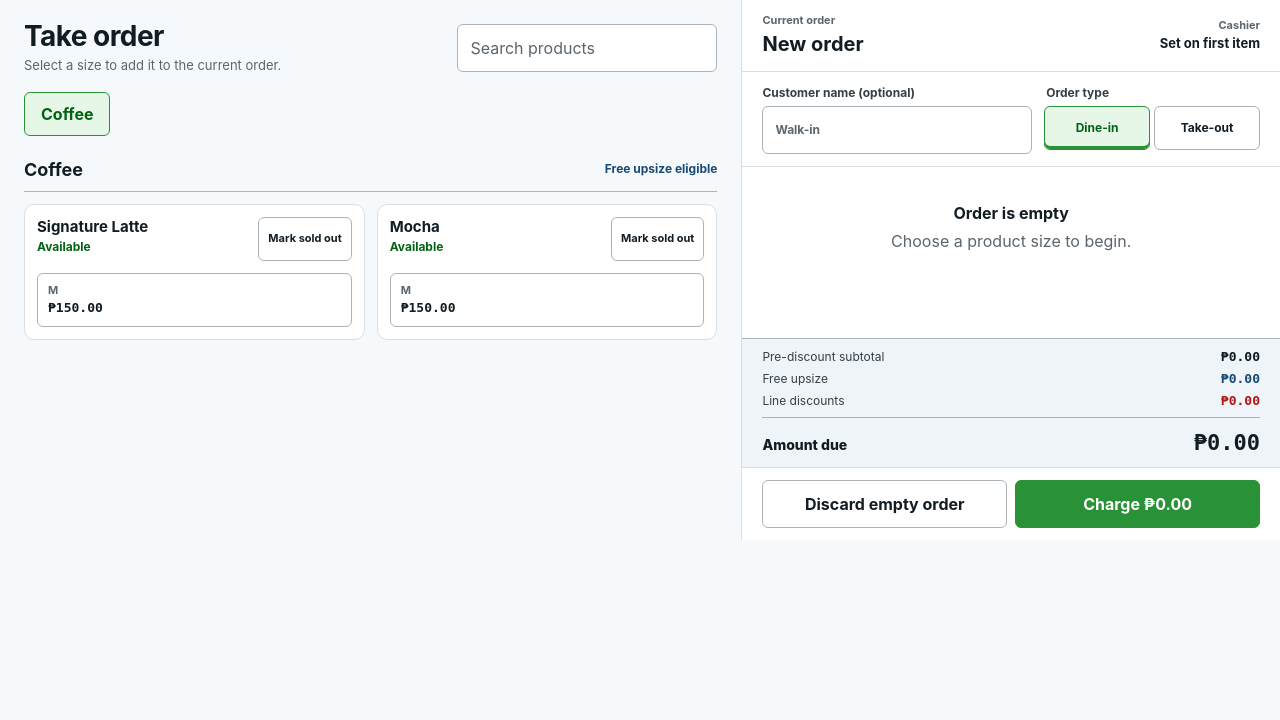
Test: Take Order workspace › keeps free upsize unavailable when the order has no eligible line
The image size is (1280, 720).
Expected: the heading "Signature Latte" is shown, [37,217,148,236]
Click the button "M ₱150.00" below "Signature Latte".
click(75, 308)  # box [37,273,352,327]
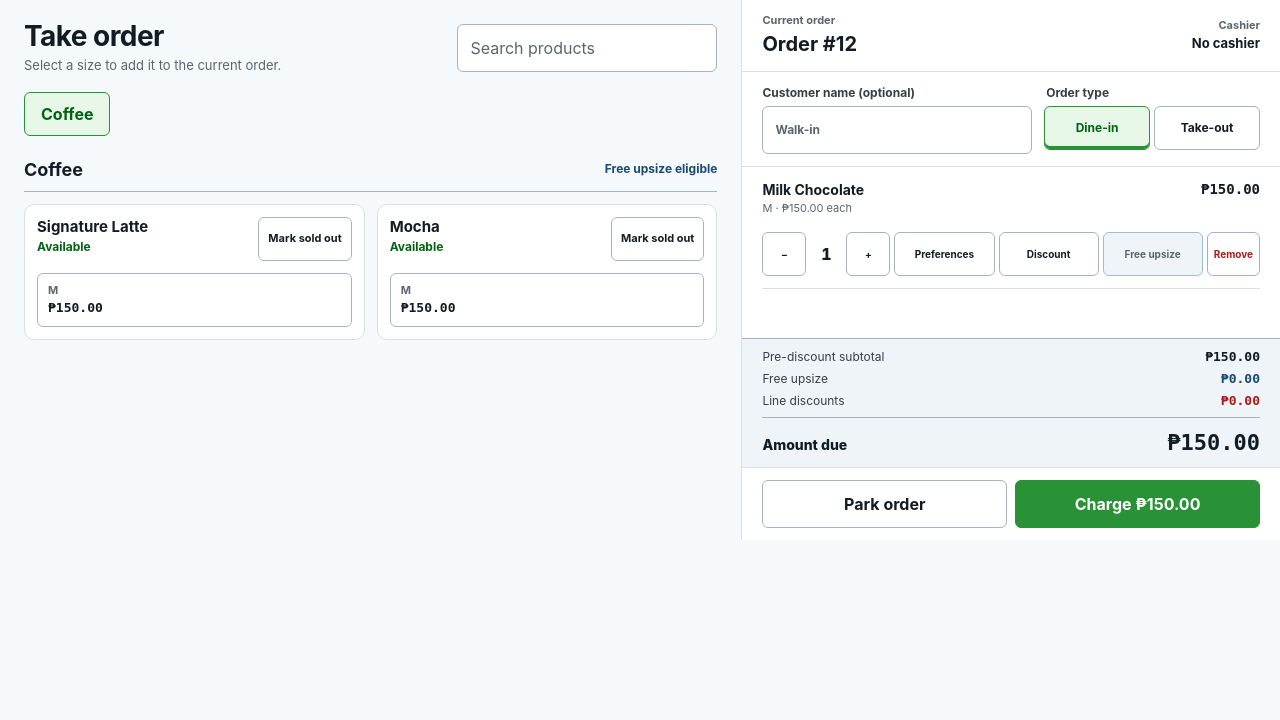
Now the heading "Order #12" is shown, box [762,28,857,58]
Now the button "Free upsize" is disabled, box [1103,232,1203,276]
